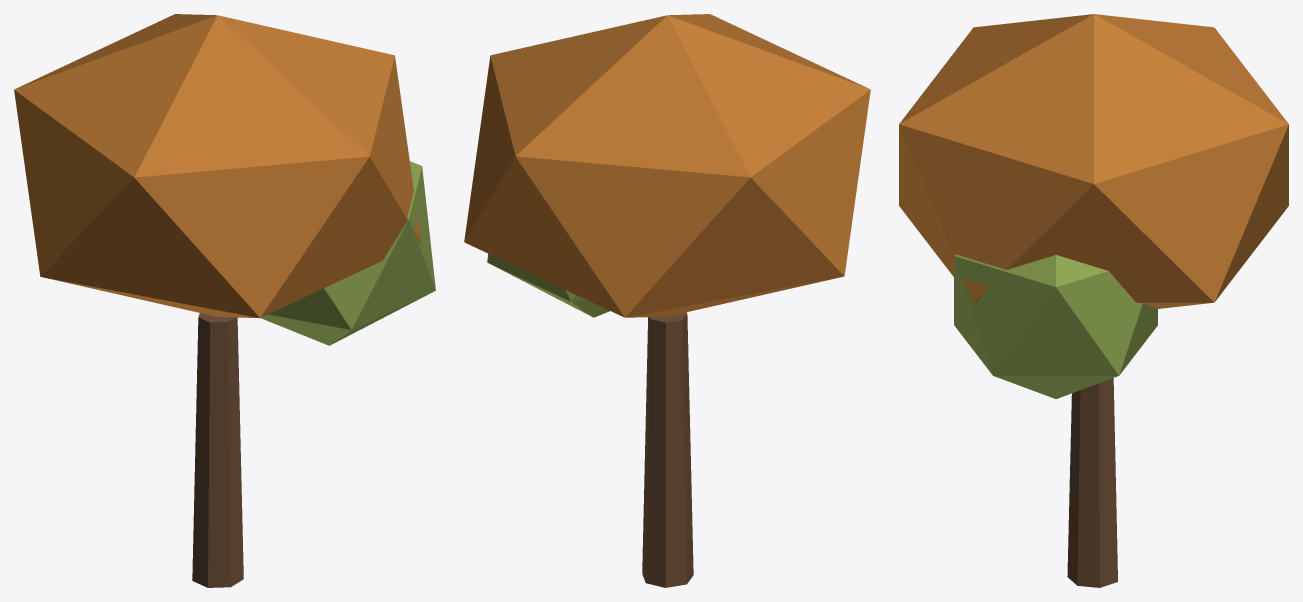
Rendered from VG_Tree_Autumn.fbx.
3 renders of one model, left to right at view 1: azimuth 30°, elevation 25°; view 2: azimuth 150°, elevation 25°; view 3: azimuth 270°, elevation 25°, orthographic.
Parts seen in each view (by area): view 1: VG_Tree_Autumn_Mesh; view 2: VG_Tree_Autumn_Mesh; view 3: VG_Tree_Autumn_Mesh.
Part boxes in pixels (x1,y1,x2,y2): VG_Tree_Autumn_Mesh: (14, 14, 435, 587); VG_Tree_Autumn_Mesh: (464, 14, 870, 587); VG_Tree_Autumn_Mesh: (899, 14, 1288, 587).
Size of the model in its own units: 3.32 by 4.92 by 3.09.
